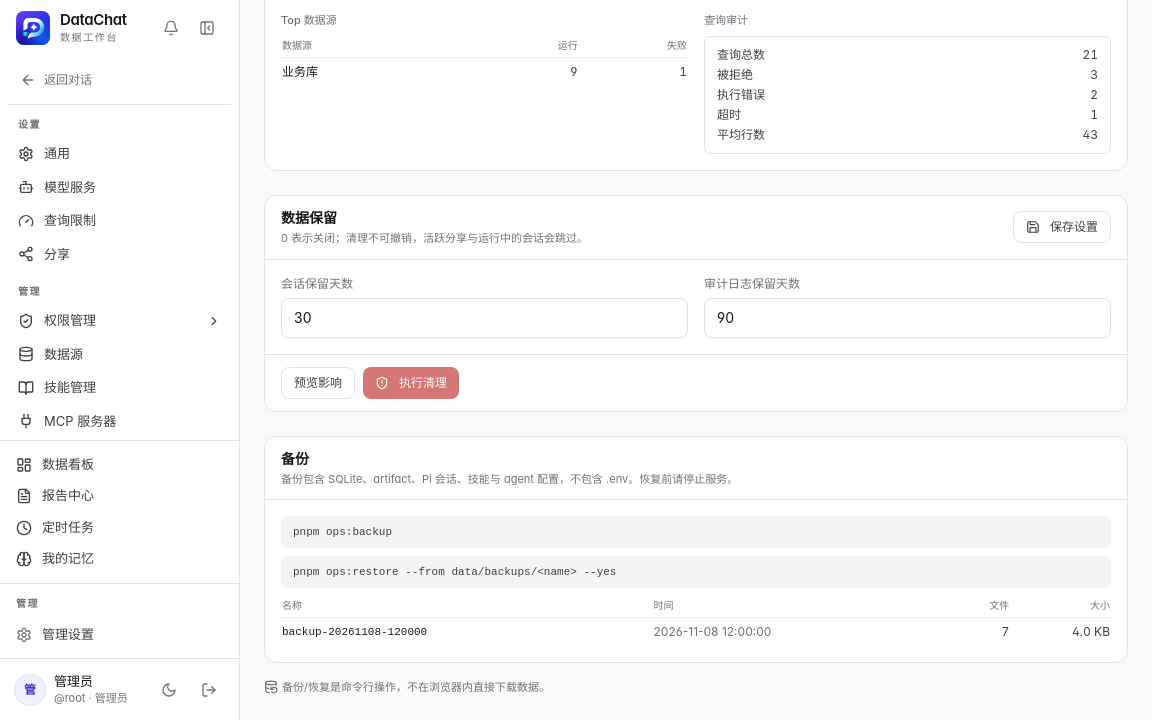
OpsPage › previews and runs retention after confirmation
(page scrolled)
What coordinates should you click on to do the following:
click the button "预览影响"
I would click on:
 (318, 382)
Its box is x1=281 y1=366 x2=355 y2=398.
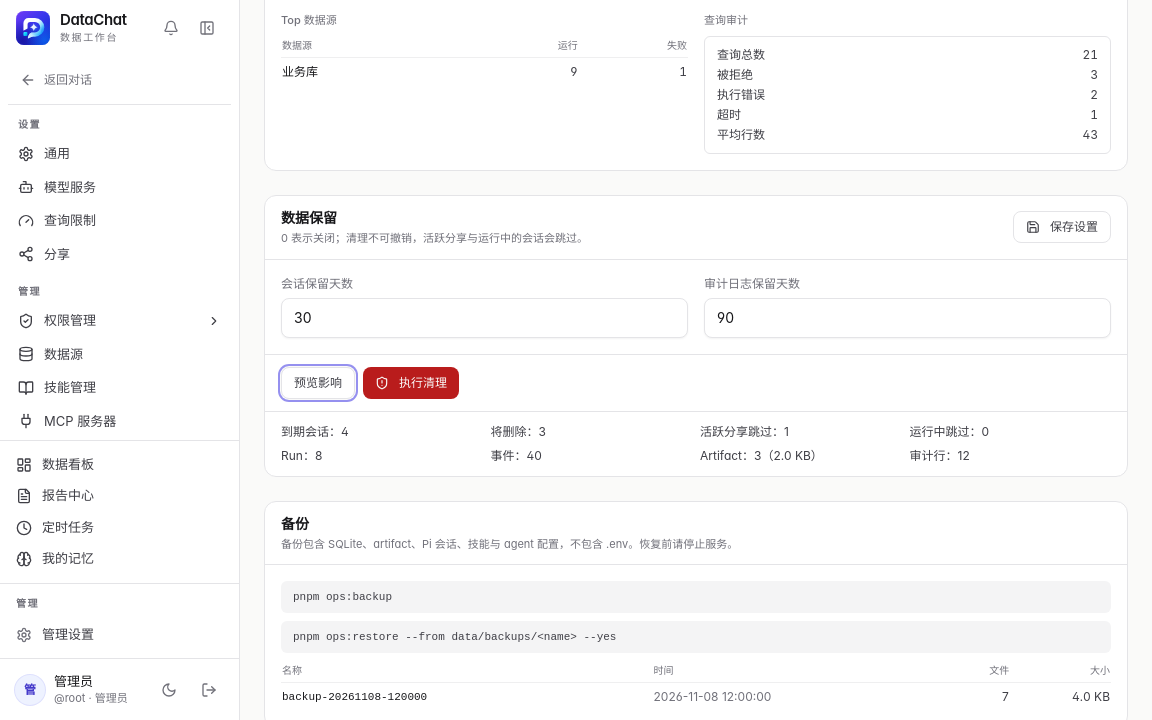
Check: the text "到期会话：4" is shown, box x1=281 y1=424 x2=349 y2=438
Check: the text "将删除：3" is shown, box x1=490 y1=424 x2=546 y2=438
What coordinates should you click on to do the following:
click the button "执行清理"
I would click on:
 (411, 382)
Its box is x1=363 y1=366 x2=459 y2=398.
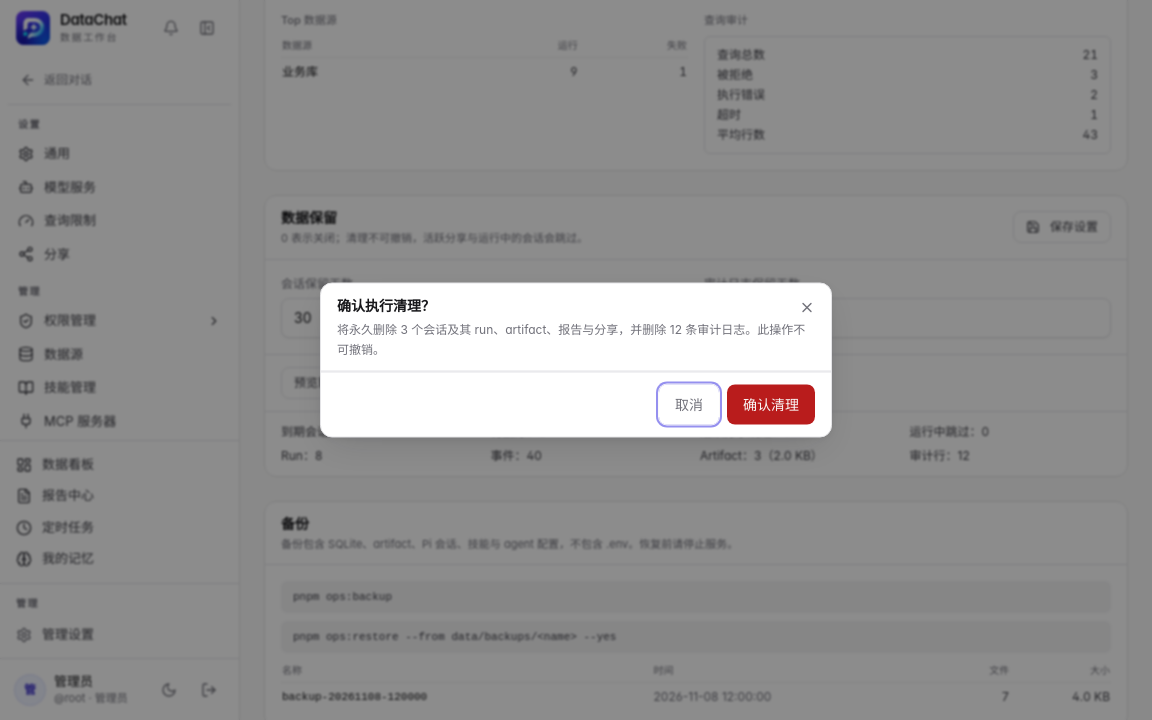
Check: the heading "确认执行清理？" is shown, box x1=337 y1=296 x2=435 y2=314
What coordinates should you click on to do the following:
click the button "确认清理"
I would click on:
 (771, 404)
Its box is x1=727 y1=384 x2=815 y2=424.
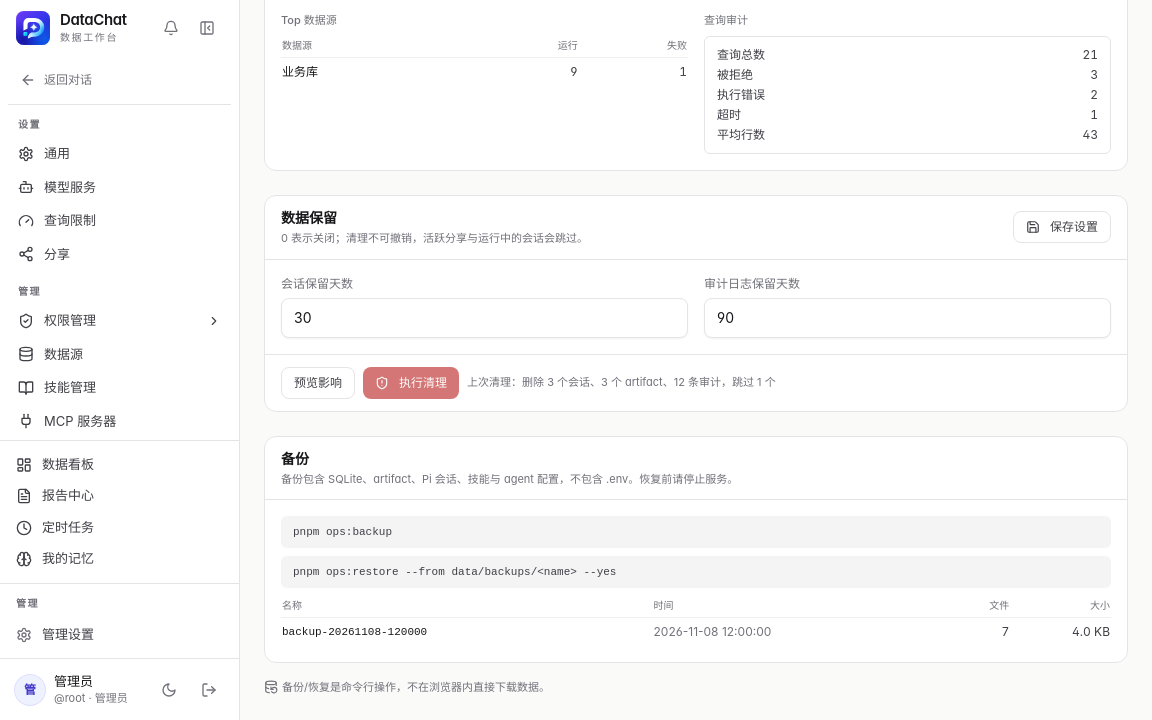
Check: the text "上次清理：删除 3 个会话、3 个 artifact、12 条审计，跳过 1 个" is shown, box x1=467 y1=374 x2=776 y2=391
